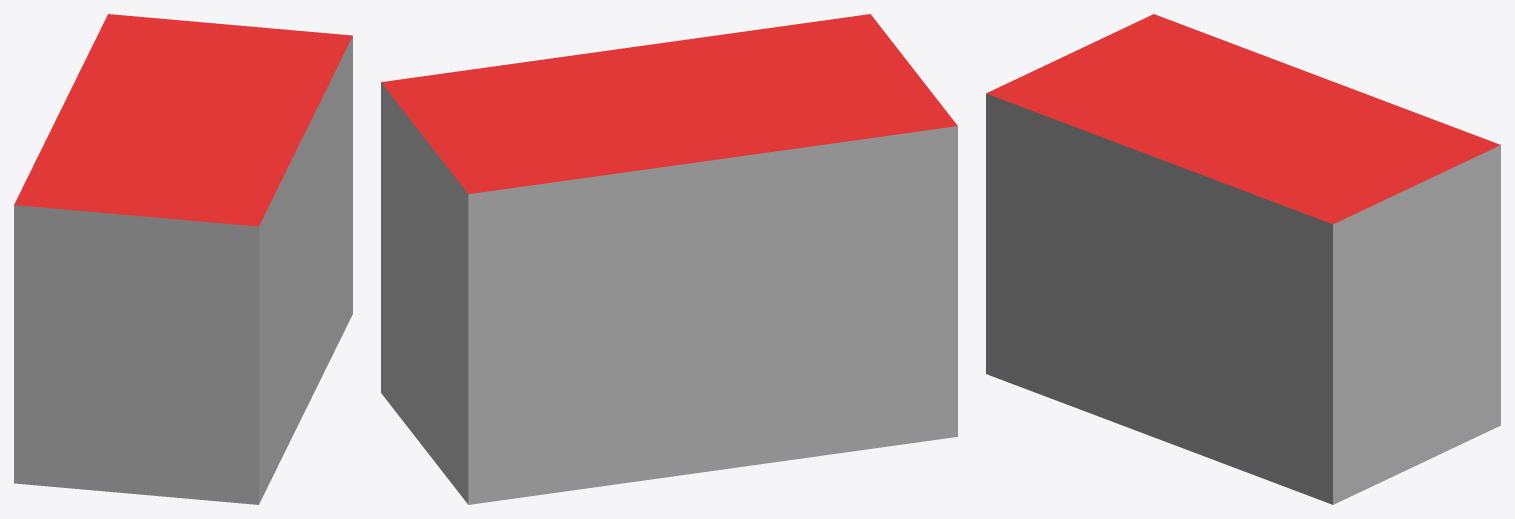
File: ID_98196a76-f41b-4eca-a8fe-ff162c38a137.dae
3 views of the same model, side by side, from view 1: azimuth 30°, elevation 25°; view 2: azimuth 150°, elevation 25°; view 3: azimuth 270°, elevation 25° (orthographic). The views are drawn at different scales.
Size of the model in its own units: 25.68 by 26.56 by 15.97.
